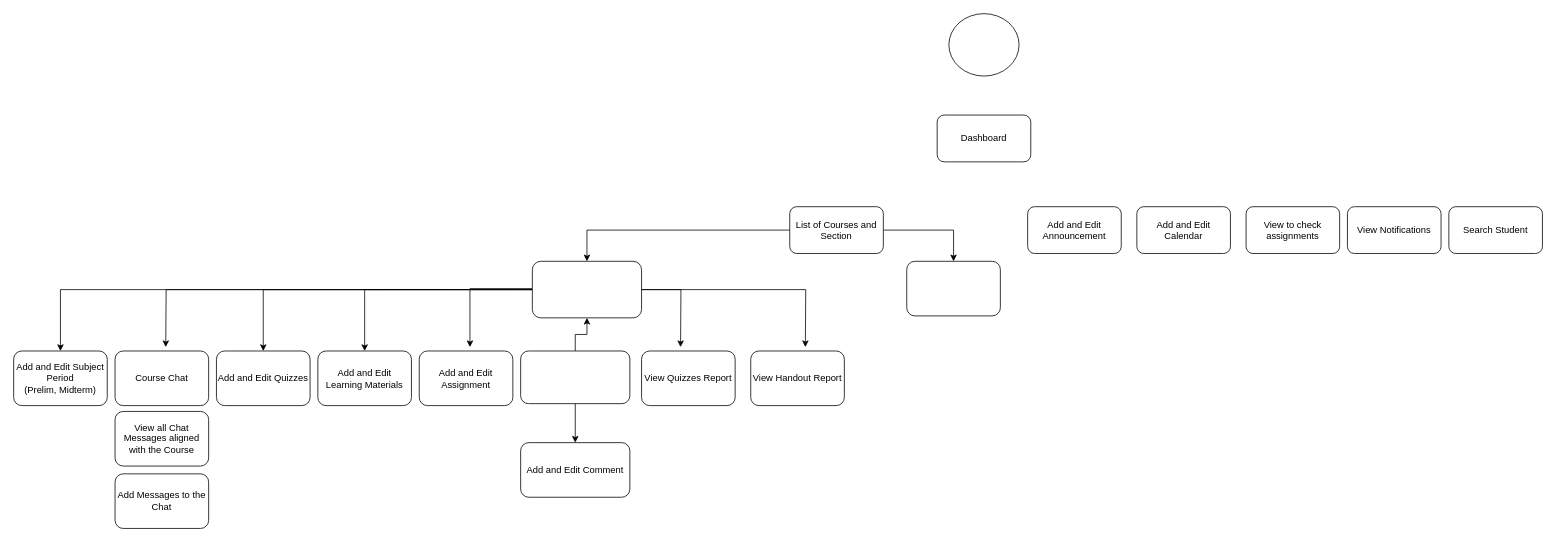
The diagram is 1556 pixels wide and 542 high, and some of its shapes have lost their labels. Here are the shapes that lost their labels. From the top down, the box of each, then its label:
(948, 13, 1019, 76): Login
(532, 261, 642, 318): View all given assignments
(906, 261, 1000, 316): Student Grade Book
(520, 350, 630, 404): View Students Finish Assignment
